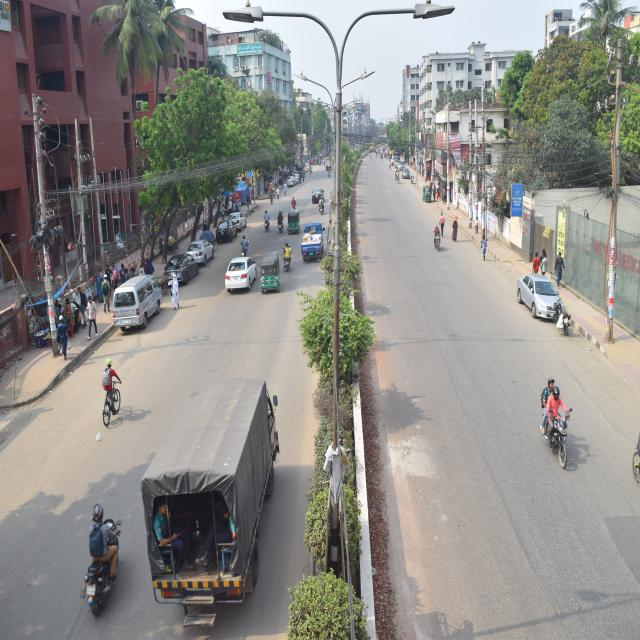car: (130, 364, 300, 640), (514, 266, 566, 322), (222, 252, 260, 298), (164, 249, 202, 294), (184, 230, 218, 270), (214, 217, 238, 246), (230, 203, 250, 234)
microbus: (108, 268, 164, 334)
motorbike: (81, 500, 128, 630), (534, 366, 587, 469), (548, 297, 574, 340), (280, 239, 298, 278), (431, 224, 446, 255), (238, 230, 254, 256), (262, 205, 272, 235), (277, 207, 287, 235), (315, 194, 326, 212)
pickup-van: (301, 216, 327, 263)
